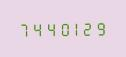four: (30, 20, 42, 37), (43, 20, 55, 37)
nine: (95, 19, 107, 36)
one: (69, 19, 81, 36)
seven: (17, 20, 29, 37)
two: (82, 19, 94, 36)
zero: (56, 20, 68, 36)
